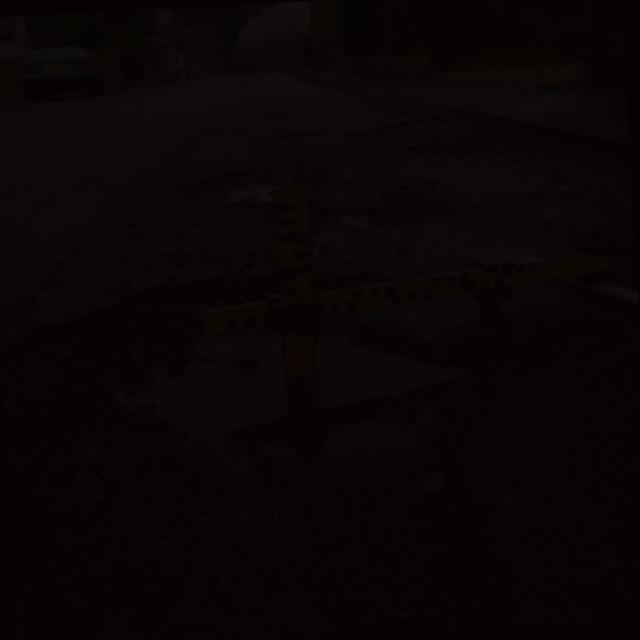Pothole: (88, 278, 505, 481), (198, 162, 442, 234)
